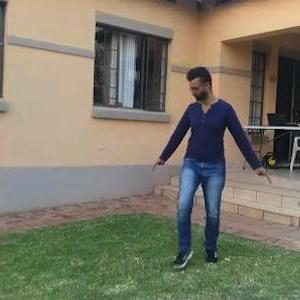land: (133, 57, 266, 284)
